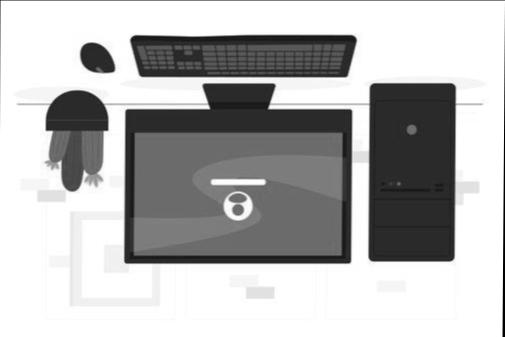keyboard: (121, 31, 362, 79)
monitor: (122, 83, 351, 265)
mouse: (73, 41, 119, 79)
pc: (362, 73, 457, 267)
